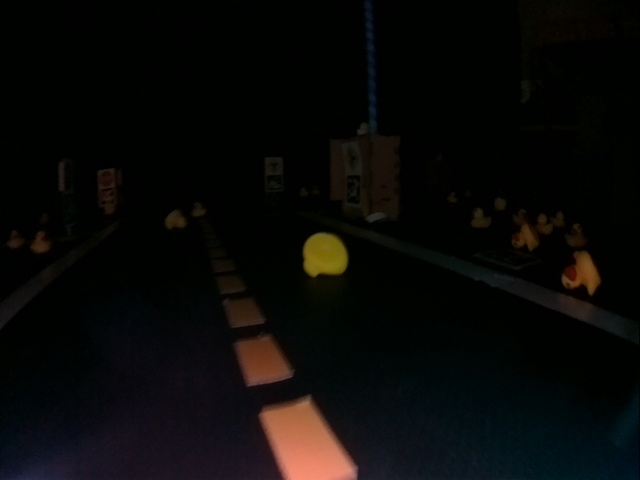Duckie: (304, 233, 347, 275), (561, 250, 597, 290), (514, 226, 536, 248), (471, 208, 490, 229), (32, 231, 49, 254), (567, 224, 584, 245), (166, 210, 185, 227), (536, 214, 551, 233), (355, 121, 369, 135), (514, 208, 527, 223), (192, 202, 205, 216), (10, 229, 21, 245), (553, 213, 564, 226), (494, 197, 505, 208), (448, 192, 457, 200)
Intersection sign: (343, 141, 360, 171), (265, 158, 283, 172)
QR code: (346, 175, 360, 204), (265, 175, 283, 190)
